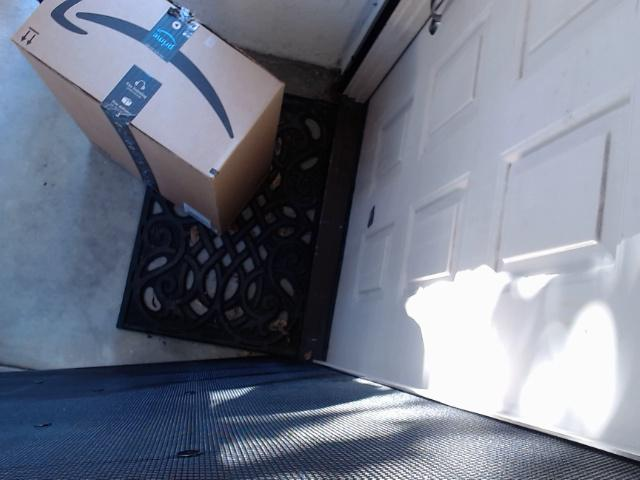box: (11, 0, 311, 233)
